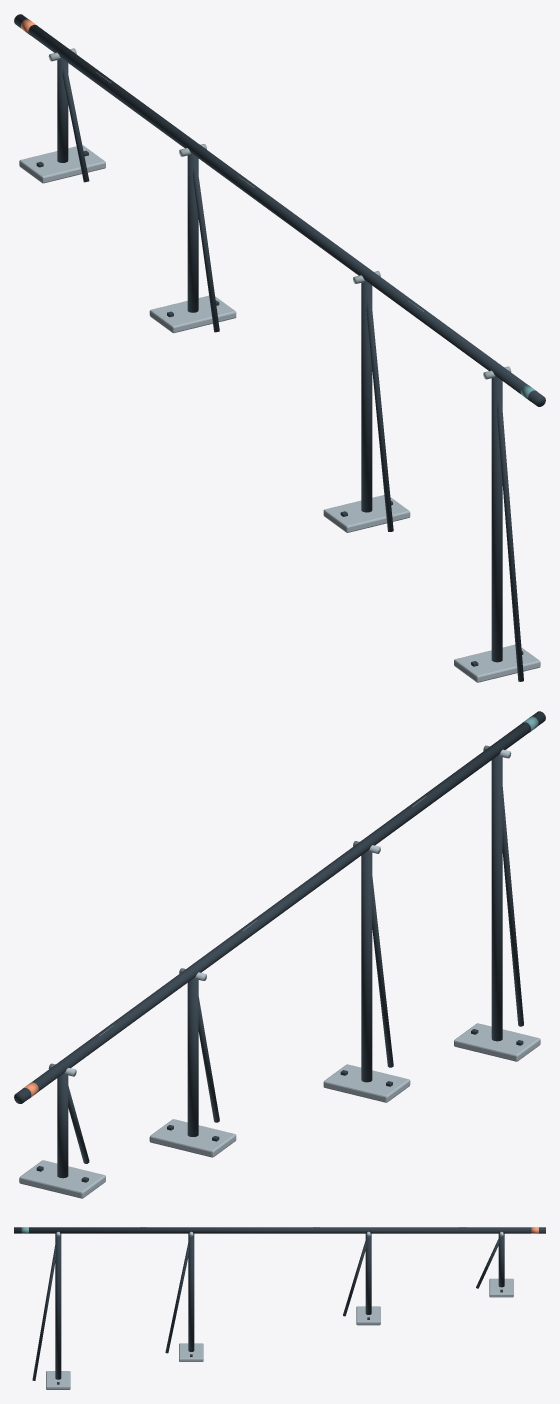
The model's file is Rail_flat.fbx.
3 renders of one model, top to bottom at view 1: azimuth 30°, elevation 25°; view 2: azimuth 150°, elevation 25°; view 3: azimuth 270°, elevation 25°, orthographic. The views are drawn at different scales.
Parts seen in each view (by area): view 1: Visual_Rail_flat; view 2: Visual_Rail_flat; view 3: Visual_Rail_flat.
Part boxes in pixels (<box>): Visual_Rail_flat: <box>14,14,545,682</box>; Visual_Rail_flat: <box>14,711,545,1198</box>; Visual_Rail_flat: <box>14,1227,545,1389</box>.
Size of what is drawn, in the model's own units: 0.85 by 3.85 by 12.
